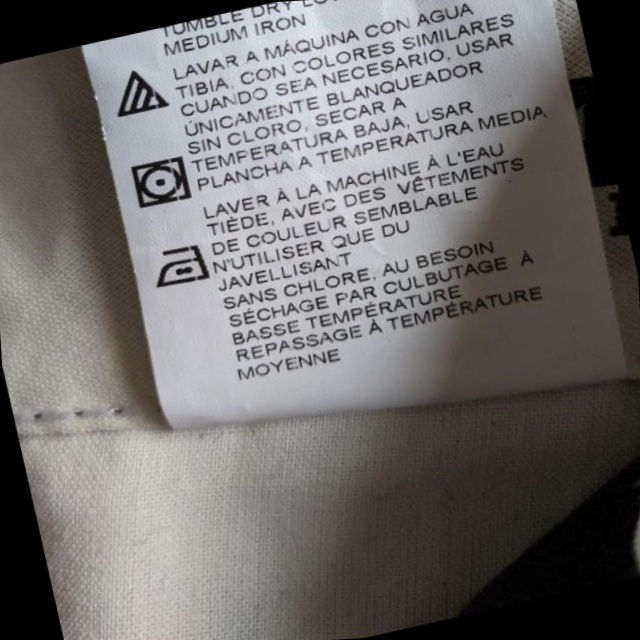iron_medium: (151, 237, 215, 291)
non_chlorine_bleach: (107, 59, 176, 127)
tumble_dry_low: (123, 150, 196, 213)
